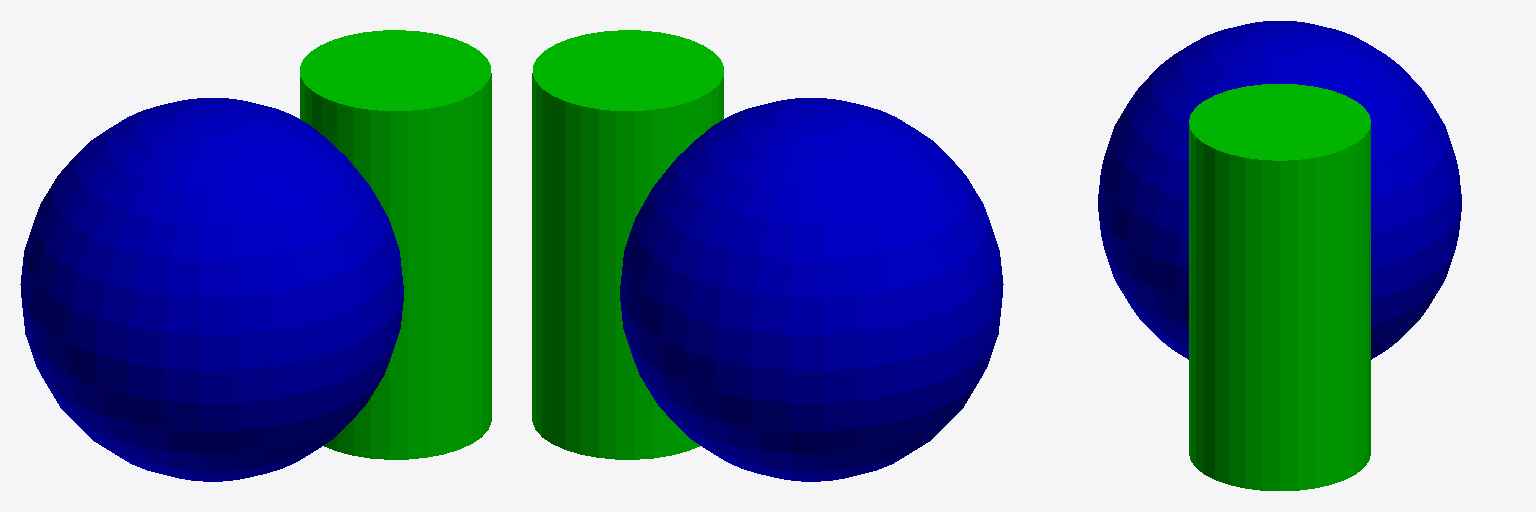
The robot description file, URDF, robot "A_vs_B":
<?xml version="1.0"?>
<robot name="A_vs_B">
  <material name="blue">
    <color rgba="0 0 0.8 .5"/>
  </material>
  <material name="green">
    <color rgba="0 0.8 0 .5"/>
  </material>
  <link name="A">
    <visual>
      <geometry>
        <sphere radius="0.5"/>
      </geometry>
      <origin rpy="0.0 0 0" xyz="-0.4 0 0"/>
      <material name="blue"/>
    </visual>
    <collision>
      <geometry>
        <sphere radius="0.5"/>
      </geometry>
      <origin rpy="0.0 0 0" xyz="-0.4 0 0"/>
      <material name="blue"/>
    </collision>
  </link>
  <link name="B">
    <visual>
      <geometry>
        <cylinder radius=".25" length="1"/>
      </geometry>
      <origin rpy="0 0 0" xyz="0.15 0 0"/>
      <material name="green"/>
    </visual>
    <collision>
      <geometry>
        <cylinder radius=".25" length="1"/>
      </geometry>
      <origin rpy="0 0 0" xyz="0.15 0 0"/>
      <material name="green"/>
    </collision>
  </link>
  <joint name="joint1" type="revolute">
    <axis xyz="0 0 1"/>
    <limit effort="1" lower="-1" upper="1" velocity="1"/>
    <origin rpy="0 0 0" xyz="0 0 0"/>
    <parent link="A"/>
    <child link="B"/>
  </joint>
</robot>

--- Facts derived from the render (not from the file) ---
Views: 3 orthographic renders of the robot side by side, from view 1: azimuth 30°, elevation 25°; view 2: azimuth 150°, elevation 25°; view 3: azimuth 270°, elevation 25°.
Robot: A_vs_B — 2 links, 1 joints (1 revolute); root link A; default pose: every joint at zero.
Visible links, largest first — view 1: A, B; view 2: A, B; view 3: B, A.
Link boxes in pixels (x1,y1,x2,y2): A: (20, 98, 403, 481); B: (300, 30, 491, 459); A: (620, 98, 1003, 481); B: (532, 30, 723, 459); B: (1189, 84, 1370, 490); A: (1098, 21, 1461, 359).
Size in the robot's own frame: 1.3 by 1 by 1 metres.
Geometry: primitives only (box / cylinder / sphere), no mesh files.